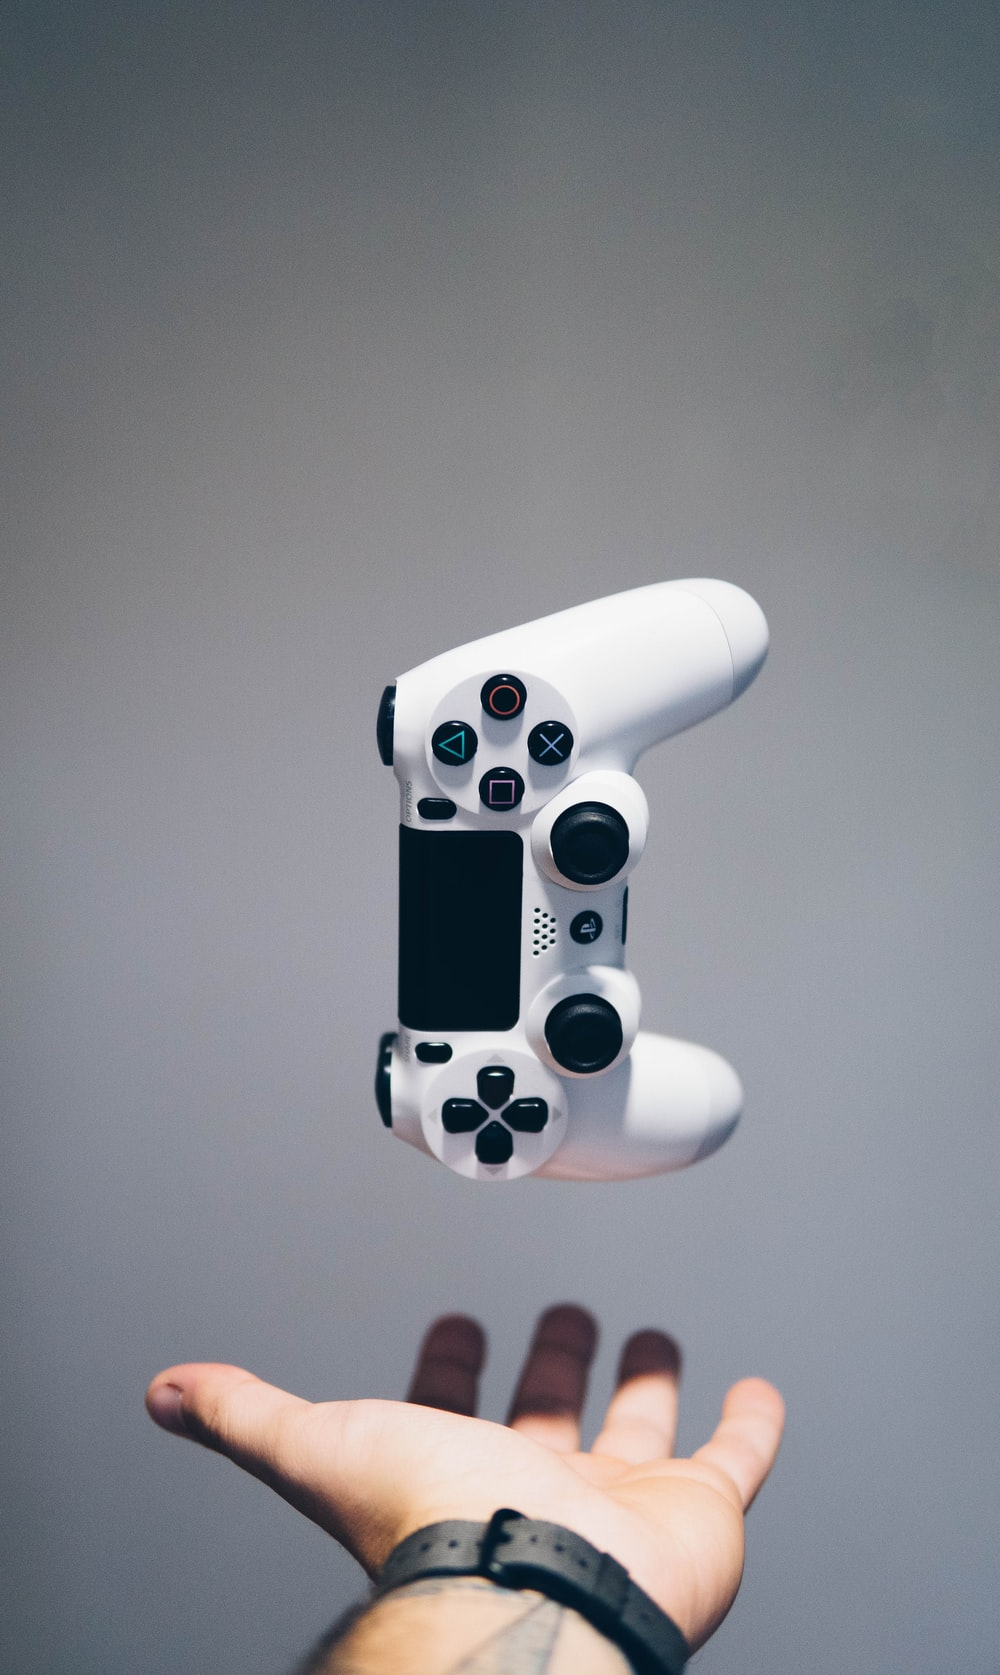controller: (373, 575, 777, 1185)
